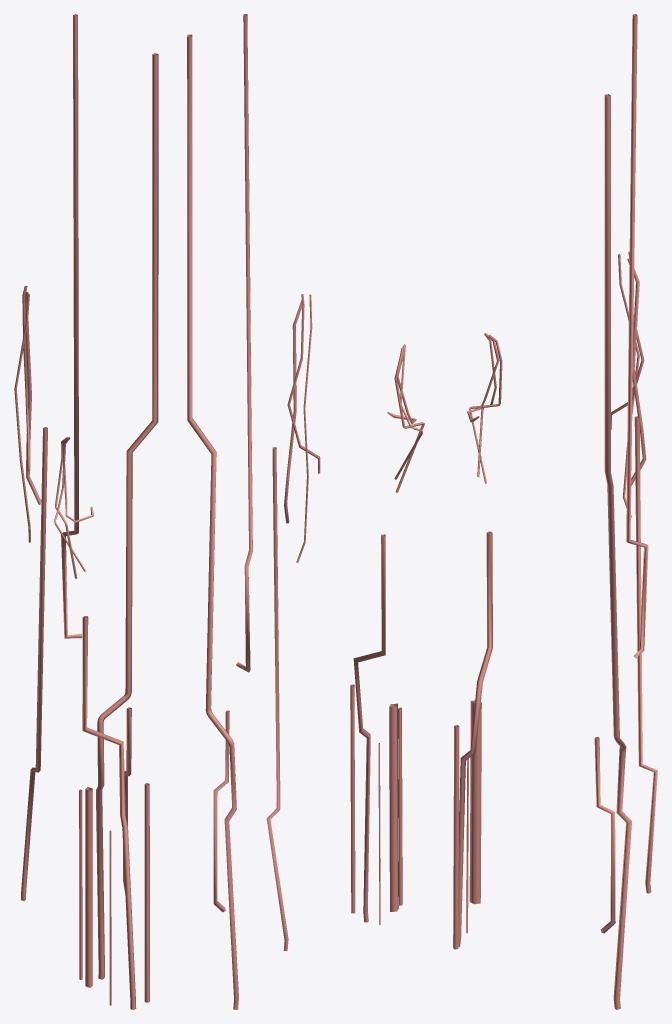
File: tuyau 03.fbx
The picture shows the model from 3 angles, left to right: view 1: azimuth 30°, elevation 25°; view 2: azimuth 150°, elevation 25°; view 3: azimuth 270°, elevation 25°; orthographic projection. The views are drawn at different scales.
Visible parts, largest first — view 1: Plane.824, Plane.852, Plane.825, Plane.798, Plane.800, Plane.796, Plane.598, Plane.799, Plane.596, Plane.831, Plane.597, Plane.797 (+1 smaller); view 2: Plane.824, Plane.852, Plane.825, Plane.798, Plane.800, Plane.796, Plane.831, Plane.799, Plane.596, Plane.598, Plane.597; view 3: Plane.824, Plane.852, Plane.825, Plane.798, Plane.800, Plane.796, Plane.831, Plane.596, Plane.598.
Part boxes in pixels (x1,y1,x2,y2): Plane.824: (96, 53, 158, 979); Plane.852: (61, 14, 82, 638); Plane.825: (21, 427, 47, 900); Plane.798: (82, 616, 136, 1009); Plane.800: (85, 786, 92, 987); Plane.796: (144, 783, 149, 1002); Plane.598: (14, 294, 30, 542); Plane.799: (79, 789, 82, 980); Plane.596: (25, 292, 41, 504); Plane.831: (123, 707, 131, 893); Plane.597: (22, 285, 30, 471); Plane.797: (109, 830, 111, 1005); Plane.824: (187, 34, 238, 1009); Plane.852: (236, 14, 252, 672); Plane.825: (266, 447, 288, 950); Plane.798: (353, 534, 385, 922); Plane.800: (389, 703, 398, 911); Plane.796: (350, 684, 355, 913); Plane.831: (213, 710, 229, 912); Plane.799: (398, 707, 402, 905); Plane.596: (284, 300, 302, 523); Plane.598: (296, 294, 312, 562); Plane.597: (287, 294, 320, 473); Plane.824: (604, 94, 631, 1009); Plane.852: (626, 14, 648, 658); Plane.825: (634, 416, 657, 893); Plane.798: (458, 531, 492, 947); Plane.800: (469, 700, 481, 904); Plane.796: (453, 725, 459, 949); Plane.831: (594, 737, 615, 933); Plane.596: (627, 258, 646, 485); Plane.598: (618, 254, 639, 517).
Size of the model in its own units: 36.53 by 204 by 38.4.
